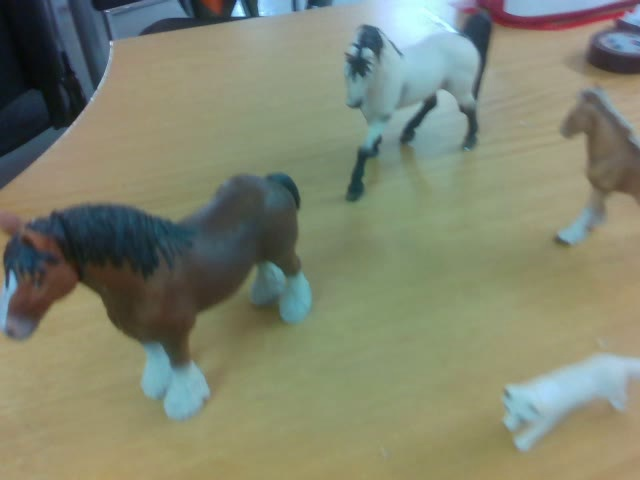toy: (1, 168, 314, 423), (343, 14, 494, 204), (501, 349, 640, 451)
